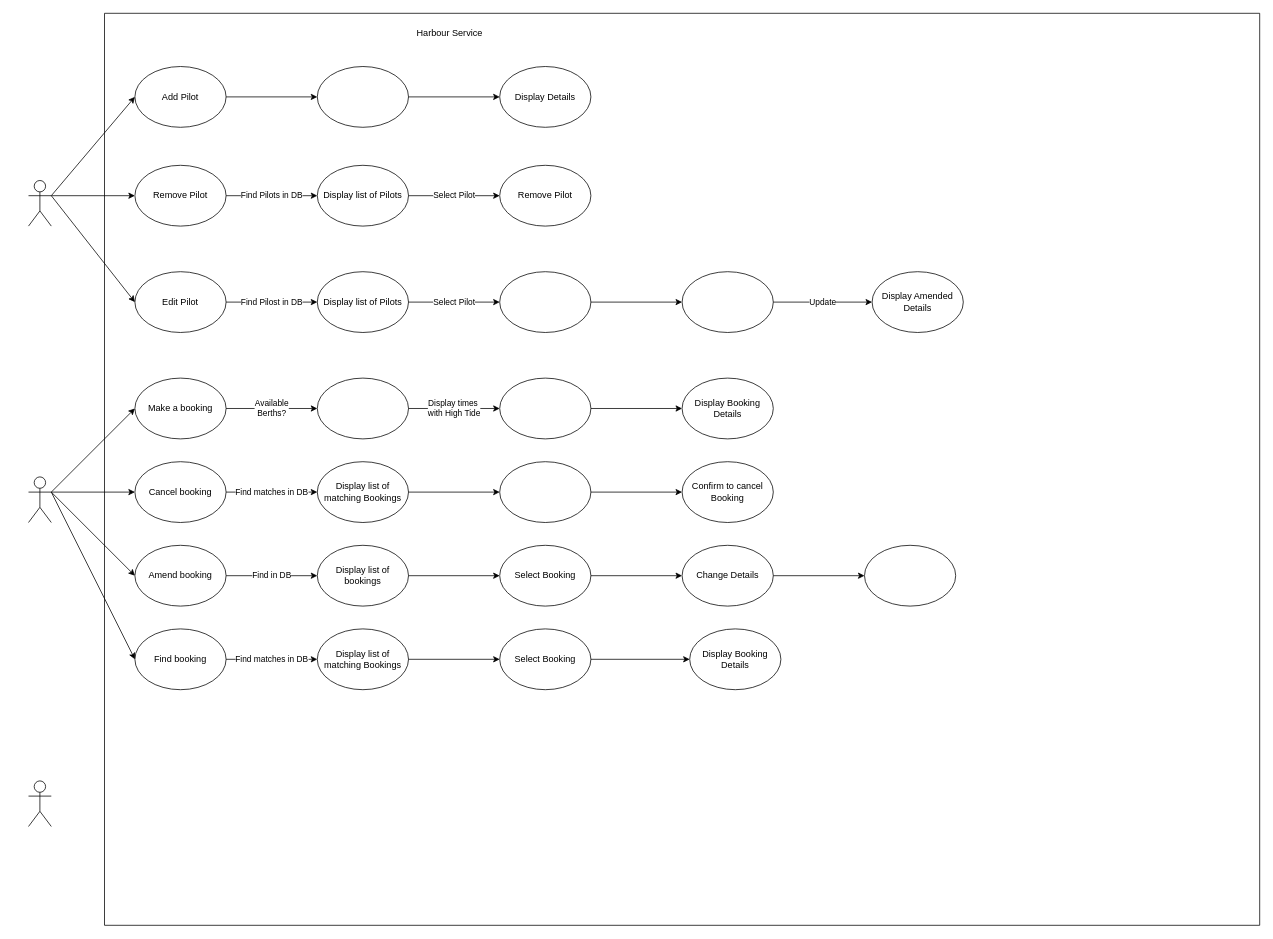
Some shapes in this 1273 by 939 pixel diagram are drawn without their labels. The shapes that lost their labels are listed below. From the top down, each one's centre as x and y in pixels, then its label:
At point 362,96: "Insert Pilot Details".
At point 39,203: "Admin".
At point 545,301: "Select Detail to Edit".
At point 727,301: "Edit Pilot's Details".
At point 362,408: "Select Free Berth".
At point 545,408: "Choose Time".
At point 39,499: "External Pilot".
At point 545,491: "Select Booking to cancel".
At point 910,575: "Display Amended Booking Details".
At point 39,803: "Internal Pilot".
